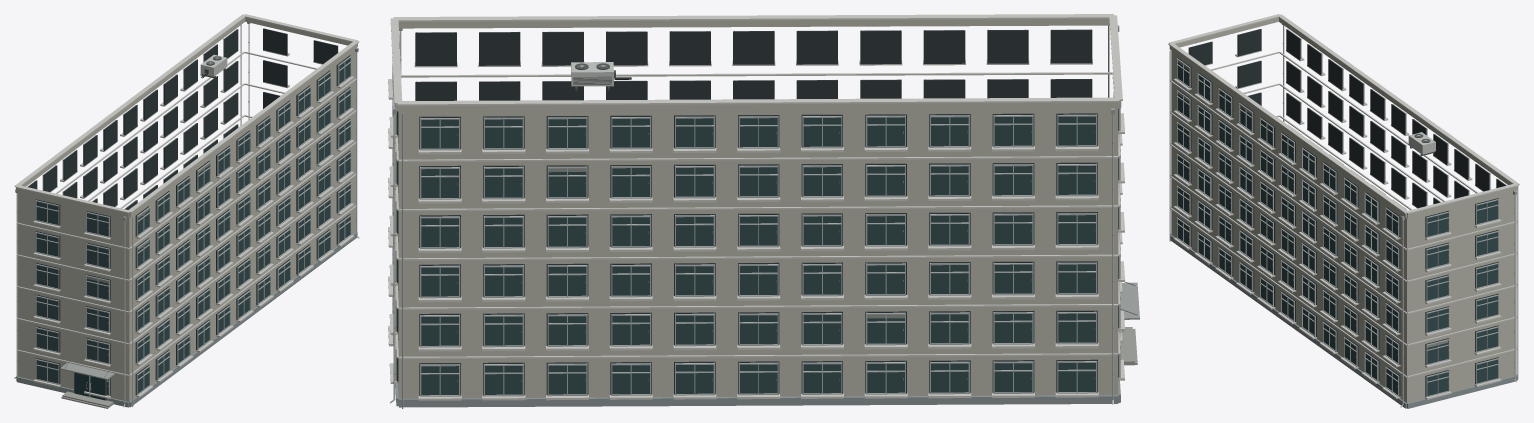
File: osm_way_1173057028.glb
3 renders of one model, left to right at view 1: azimuth 30°, elevation 25°; view 2: azimuth 150°, elevation 25°; view 3: azimuth 270°, elevation 25°, orthographic. The views are drawn at different scales.
Parts seen in each view (by area): view 1: Windows and facade details | osm_way_1173057028, Architecture | osm_way_1173057028, Roof services | osm_way_1173057028, EXTERIOR::osm_way_1173057028::rainwater and roof service det, EXTERIOR::osm_way_1173057028::inferred entry doors canopy an; view 2: Windows and facade details | osm_way_1173057028, Architecture | osm_way_1173057028, Roof services | osm_way_1173057028, EXTERIOR::osm_way_1173057028::rainwater and roof service det, EXTERIOR::osm_way_1173057028::inferred entry doors canopy an; view 3: Windows and facade details | osm_way_1173057028, Architecture | osm_way_1173057028, Roof services | osm_way_1173057028, EXTERIOR::osm_way_1173057028::rainwater and roof service det.
Boxes of the visible parts, bbox=[...] form: Windows and facade details | osm_way_1173057028: bbox=[27, 25, 354, 406]; Architecture | osm_way_1173057028: bbox=[16, 17, 357, 407]; Roof services | osm_way_1173057028: bbox=[14, 14, 359, 213]; EXTERIOR::osm_way_1173057028::rainwater and roof service det: bbox=[14, 22, 359, 407]; EXTERIOR::osm_way_1173057028::inferred entry doors canopy an: bbox=[60, 359, 114, 408]; Windows and facade details | osm_way_1173057028: bbox=[388, 25, 1124, 408]; Architecture | osm_way_1173057028: bbox=[395, 19, 1121, 407]; Roof services | osm_way_1173057028: bbox=[390, 14, 1122, 105]; EXTERIOR::osm_way_1173057028::rainwater and roof service det: bbox=[389, 25, 1119, 404]; EXTERIOR::osm_way_1173057028::inferred entry doors canopy an: bbox=[1119, 281, 1139, 365]; Windows and facade details | osm_way_1173057028: bbox=[1169, 29, 1518, 399]; Architecture | osm_way_1173057028: bbox=[1169, 17, 1518, 408]; Roof services | osm_way_1173057028: bbox=[1168, 14, 1519, 213]; EXTERIOR::osm_way_1173057028::rainwater and roof service det: bbox=[1282, 24, 1516, 407].
Size of the model in its own units: 42.96 by 20.58 by 31.98.
